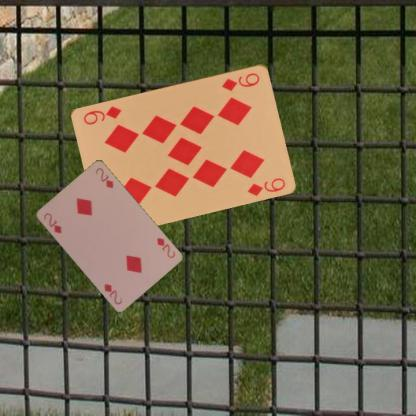2d: (154, 235, 176, 260), (41, 210, 62, 235)
9d: (219, 70, 261, 92)
